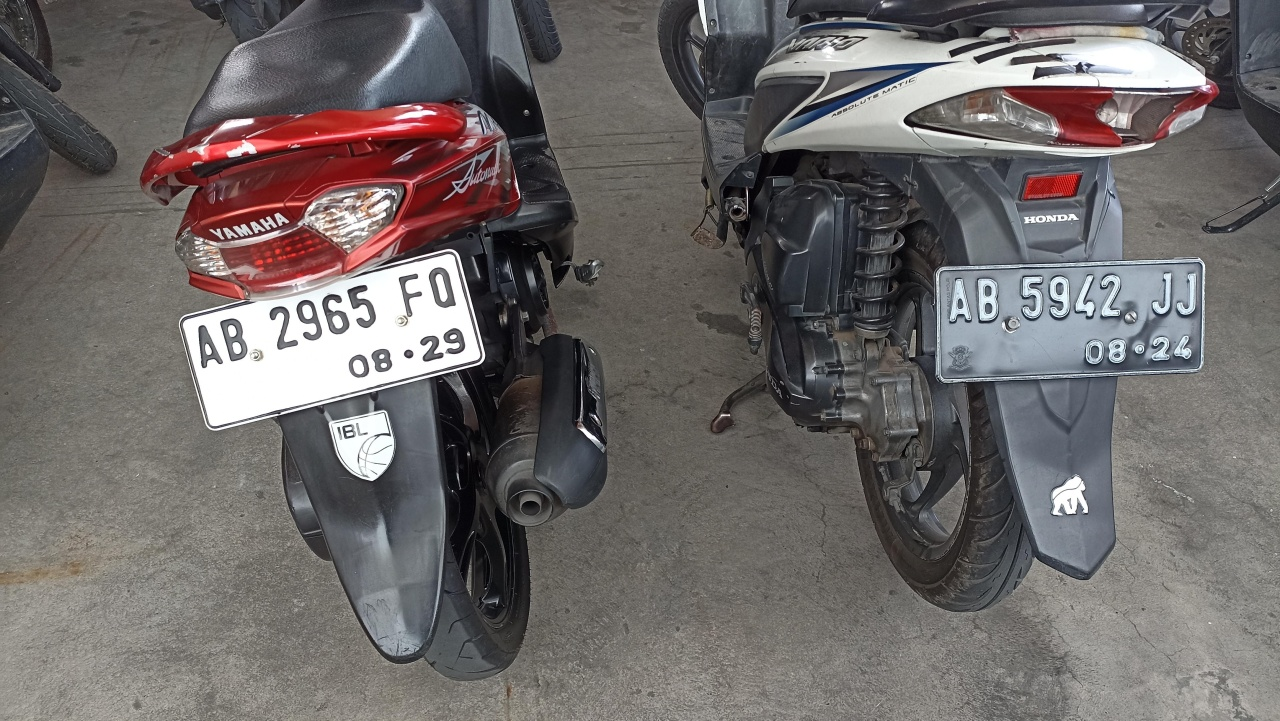plate: (935, 258, 1206, 384)
